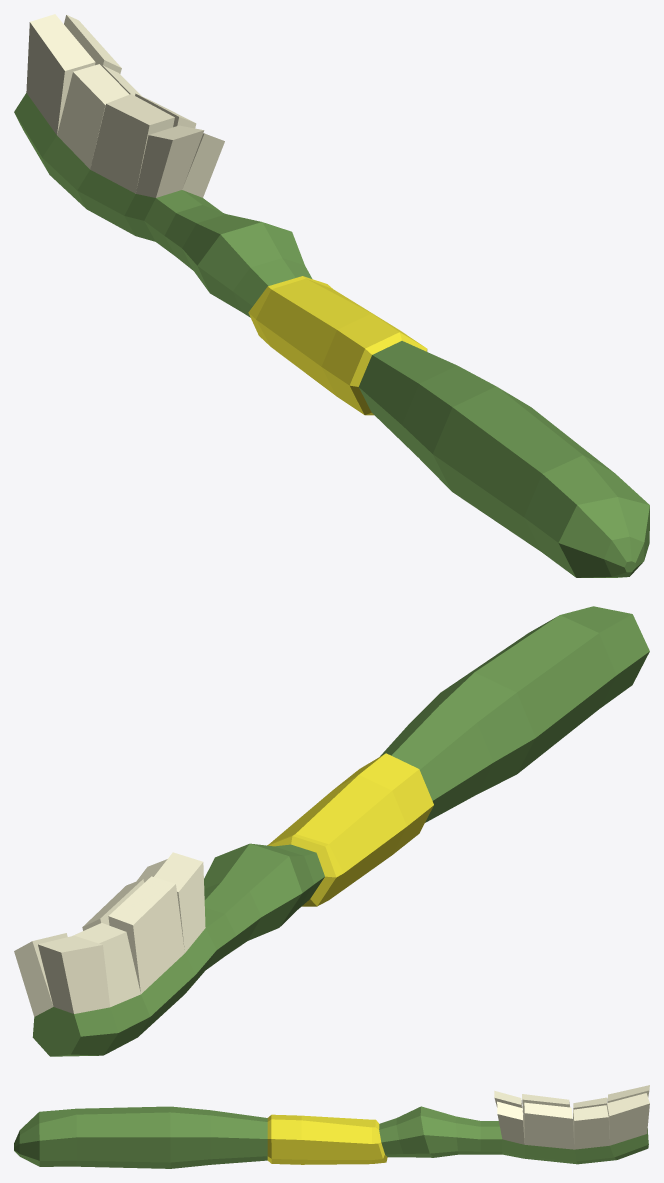
File: Toothbrush.fbx
3 renders of one model, top to bottom at view 1: azimuth 30°, elevation 25°; view 2: azimuth 150°, elevation 25°; view 3: azimuth 270°, elevation 25°, orthographic. The views are drawn at different scales.
Visible parts, largest first — view 1: toothbrush; view 2: toothbrush; view 3: toothbrush.
Boxes of the visible parts, <box> form: toothbrush: <box>14,14,649,577</box>; toothbrush: <box>14,606,649,1056</box>; toothbrush: <box>14,1085,649,1168</box>.
Bounding box in the file's own units: 1.83 × 2.65 × 19.08.
